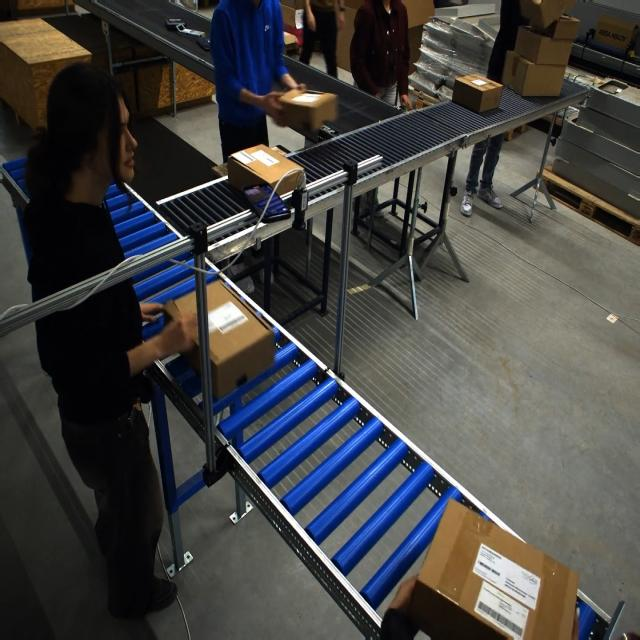box: (409, 501, 582, 640), (162, 277, 273, 399), (226, 143, 305, 198), (277, 88, 334, 134), (450, 73, 503, 115)
product: (176, 25, 203, 36), (164, 18, 184, 30)
